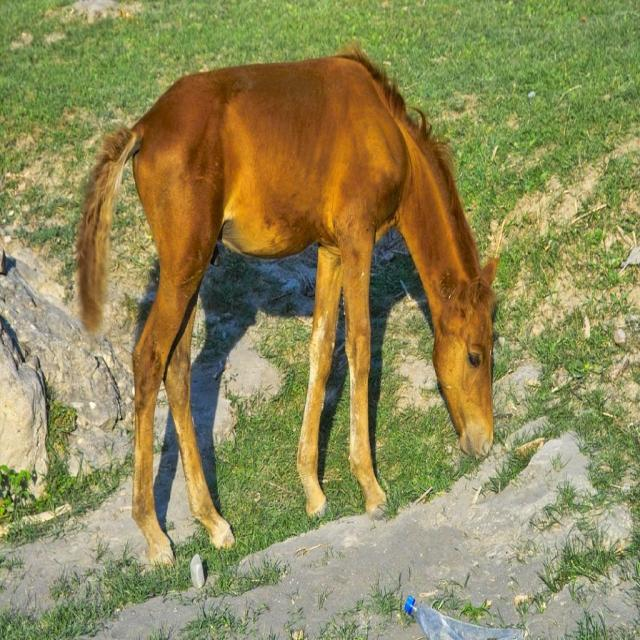Horse: (75, 47, 502, 565)
